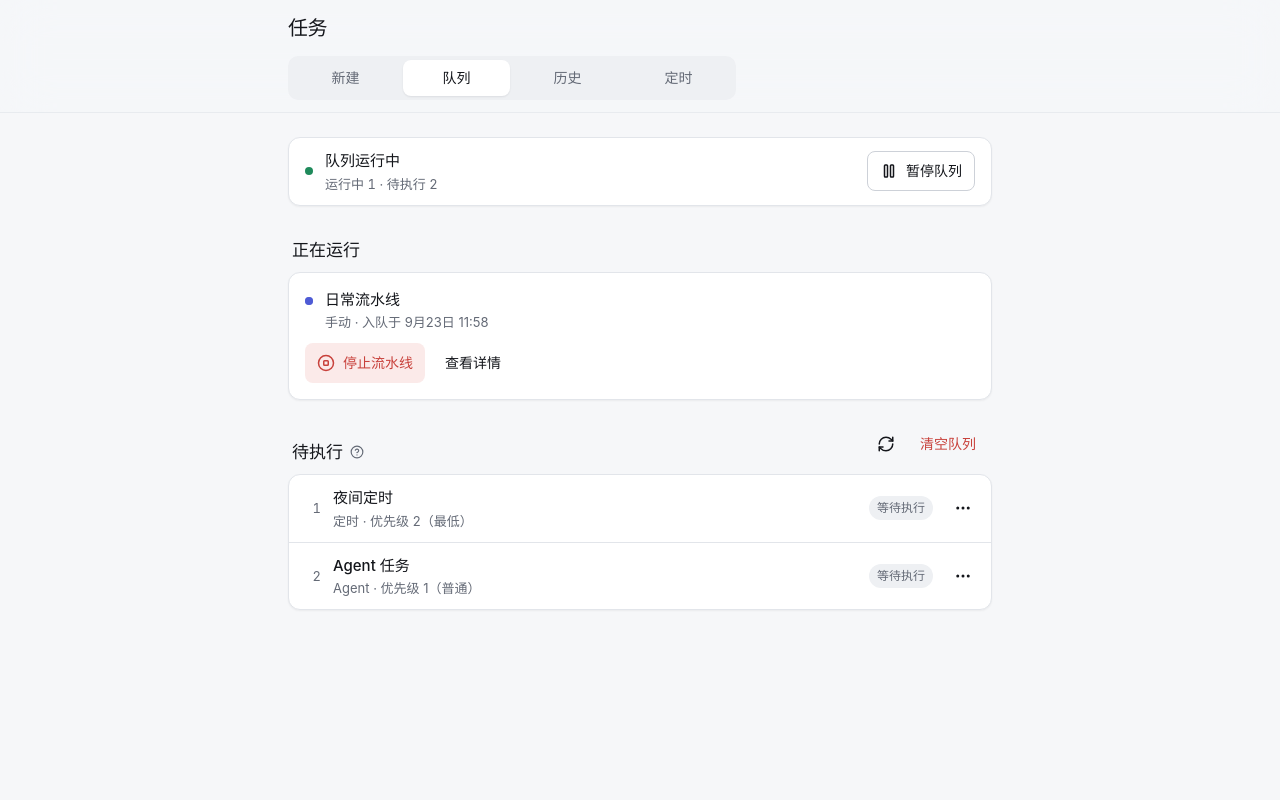
Scenario: task queue › shows the running and pending counts and pauses then resumes the queue (T12)
Expected: the text "队列运行中" is shown, [325,151,400,170]
Expected: the text "运行中 1 · 待执行 2" is shown, [325,176,438,192]
Click the button "暂停队列": (921, 171) [867,151,975,191]
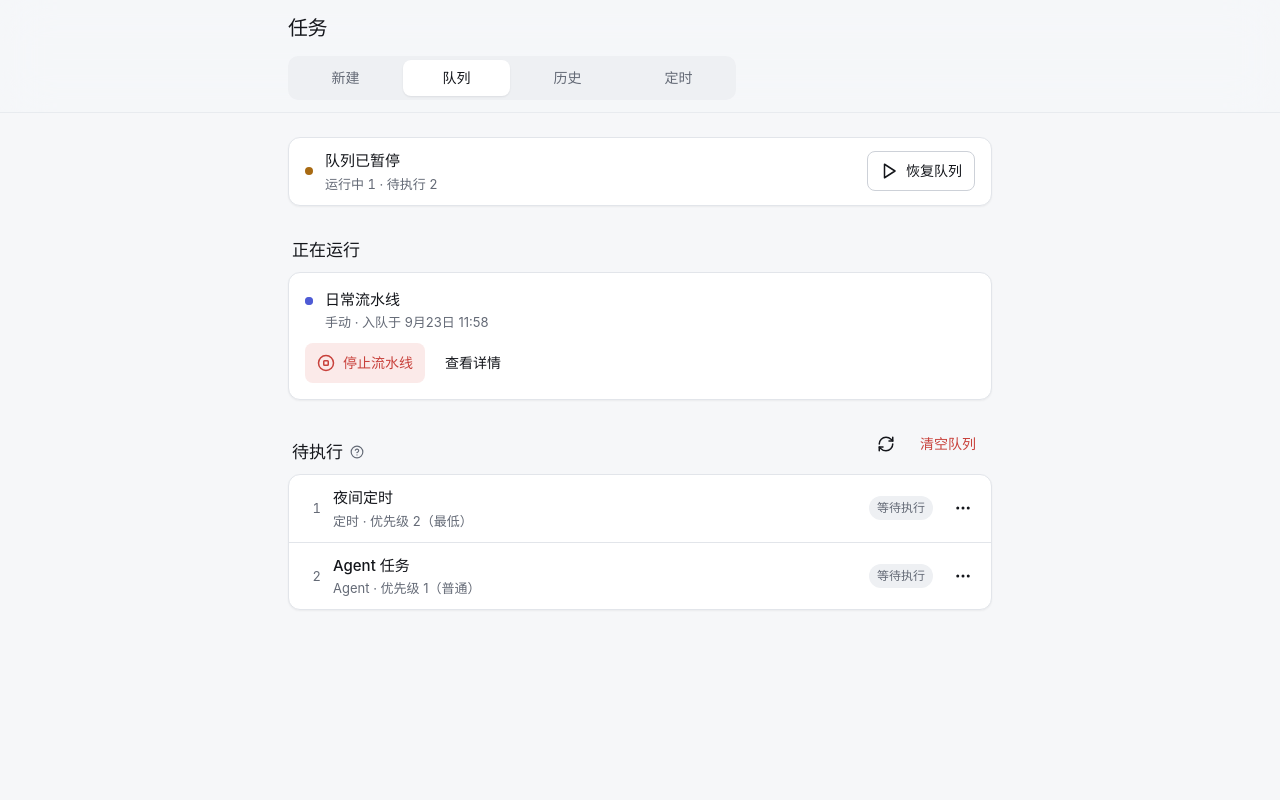
Now the button "恢复队列" is shown
Now the text "队列已暂停" is shown, box [325,151,400,170]
Click the button "恢复队列": (921, 171) [867,151,975,191]
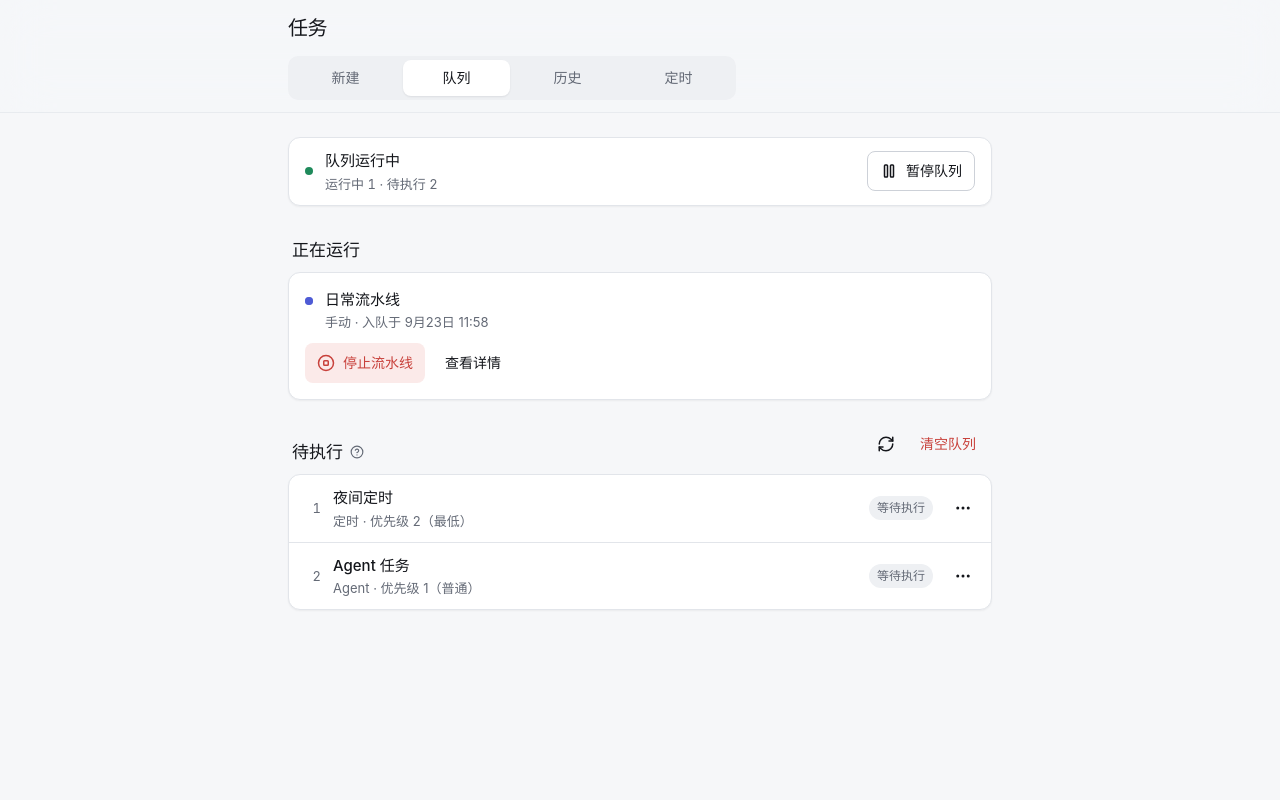
Now the button "暂停队列" is shown, box [867,151,975,191]
